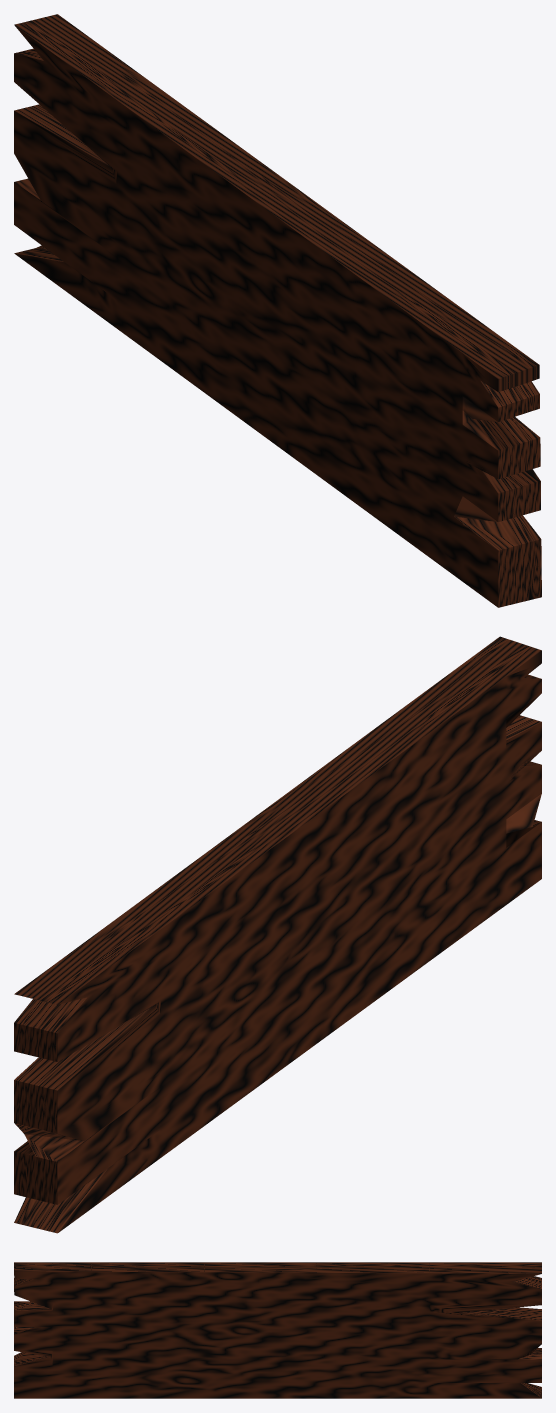
File: WoodSign.fbx
3 views of the same model, one above another, from view 1: azimuth 30°, elevation 25°; view 2: azimuth 150°, elevation 25°; view 3: azimuth 270°, elevation 25° (orthographic). The views are drawn at different scales.
Visible parts, largest first — view 1: Cube; view 2: Cube; view 3: Cube.
Boxes of the visible parts, x1,y1,x2,y2 form: Cube: (14,14,541,607); Cube: (14,636,541,1233); Cube: (14,1262,541,1398).
Bounding box in the file's own units: 56.39 × 203 × 768.
